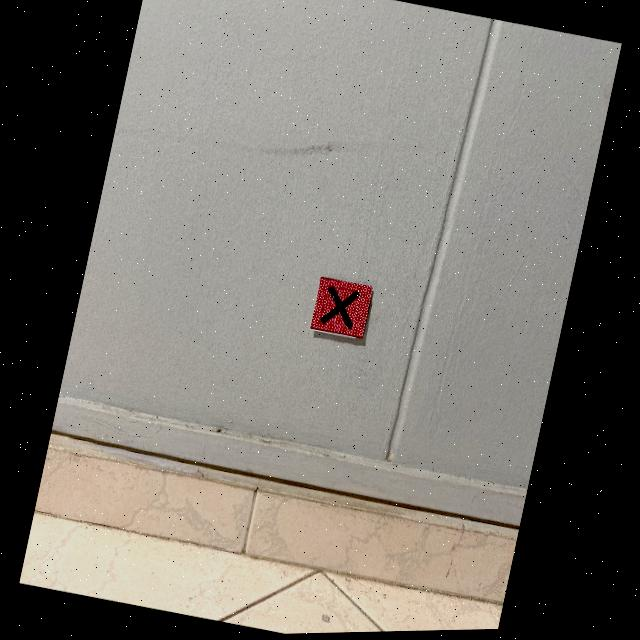X: (321, 289, 360, 330)
